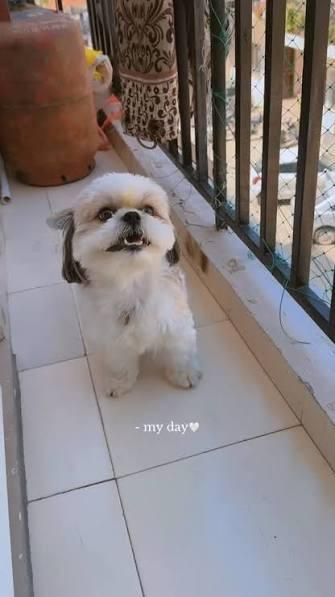adult_dog: (47, 172, 208, 400)
